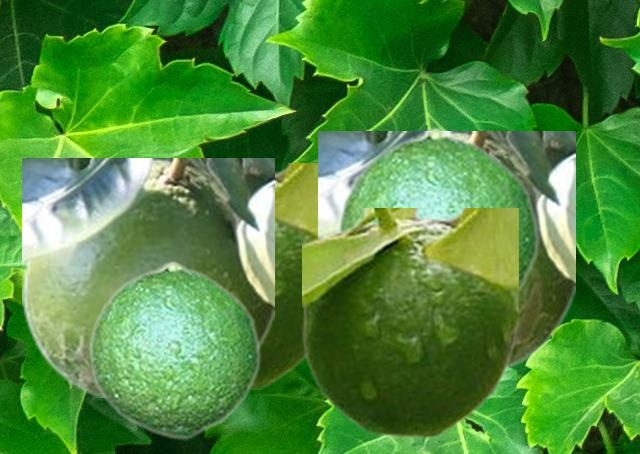dalandan: (318, 131, 574, 373), (22, 158, 273, 396), (302, 208, 517, 437), (335, 126, 539, 299), (87, 260, 260, 439), (253, 163, 317, 388)
